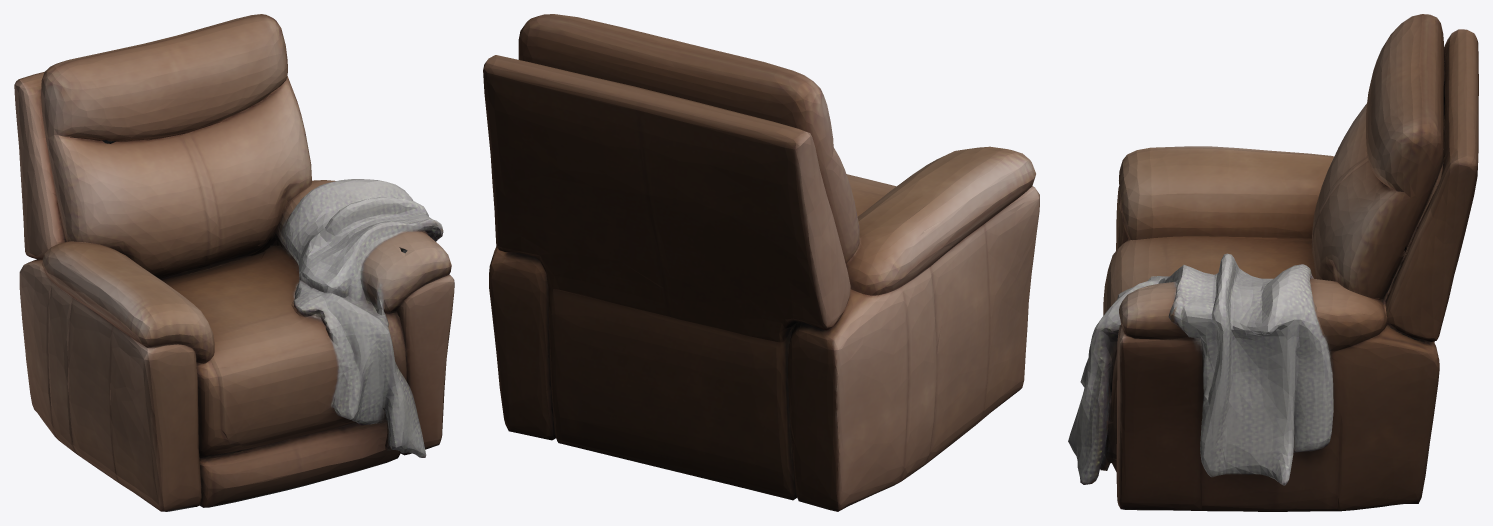
The picture shows the model from 3 angles, left to right: view 1: azimuth 30°, elevation 25°; view 2: azimuth 150°, elevation 25°; view 3: azimuth 270°, elevation 25°; orthographic projection. The views are drawn at different scales.
Parts seen in each view (by area): view 1: world; view 2: world; view 3: world.
Part boxes in pixels (left/top/right/bottom): world: left=14, top=14, right=454, bottom=511; world: left=483, top=14, right=1039, bottom=511; world: left=1068, top=14, right=1478, bottom=511.
Size of the model in its own units: 0.5699 by 0.5609 by 0.5384.
1 material, 1 textured.
